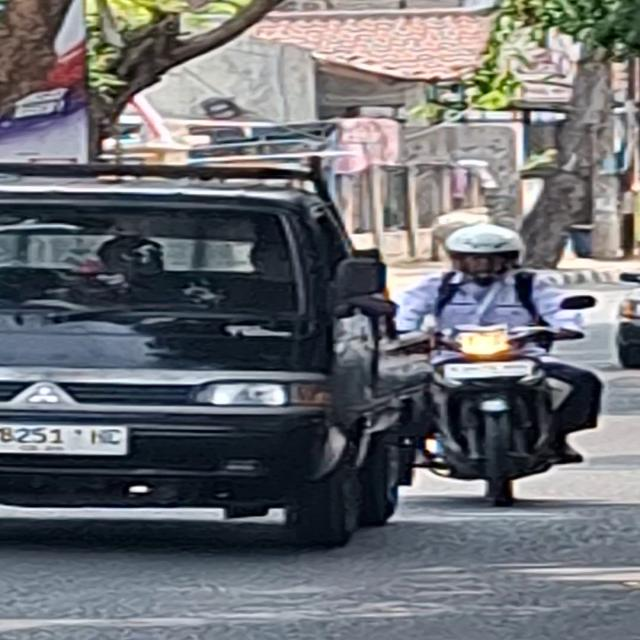WithHelmet: (386, 220, 604, 462)
